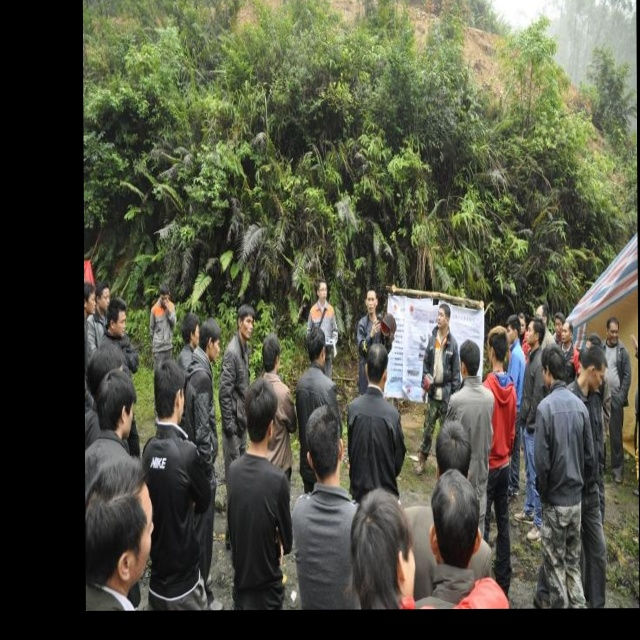Sin_Casco_Mascarrilla: (366, 344, 391, 389), (237, 304, 254, 341), (366, 288, 378, 315)
